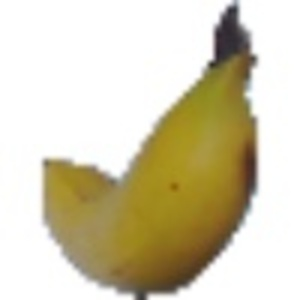banana: (29, 11, 268, 289)
